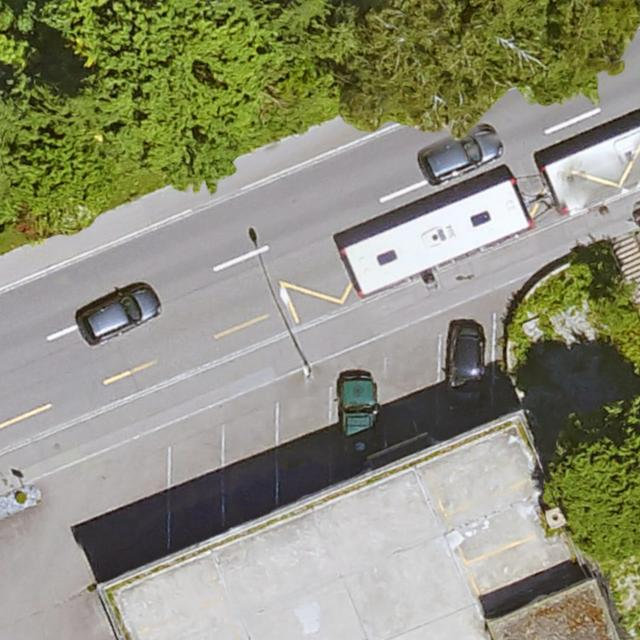tree: (112, 0, 265, 192), (352, 0, 512, 130), (0, 106, 112, 234), (558, 421, 640, 561), (266, 7, 348, 132), (528, 0, 628, 100)
